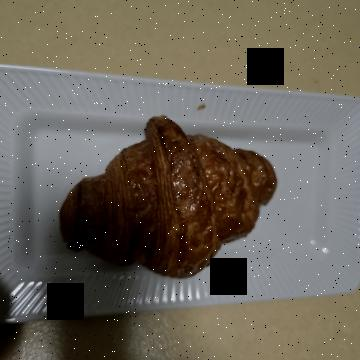croissant: (95, 71, 278, 310)
